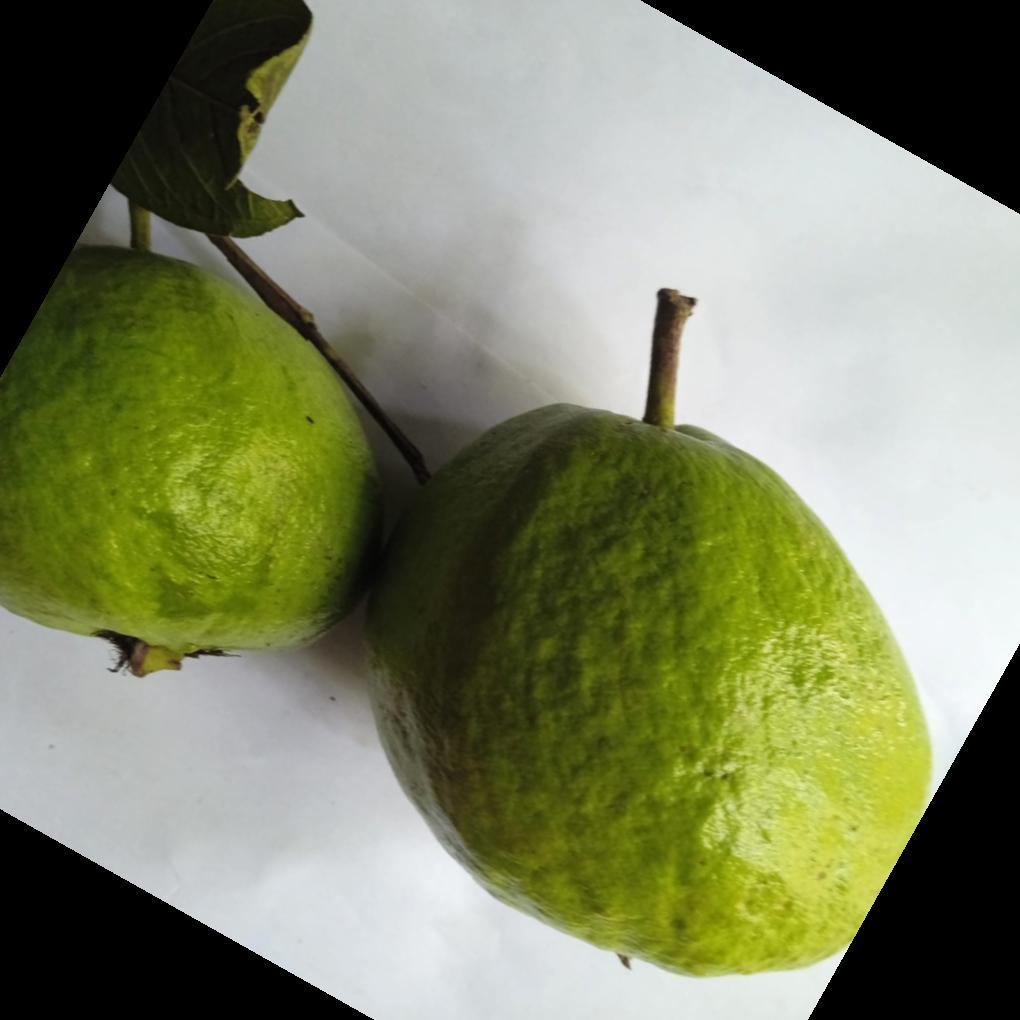FreshGuava: (0, 245, 936, 982)
